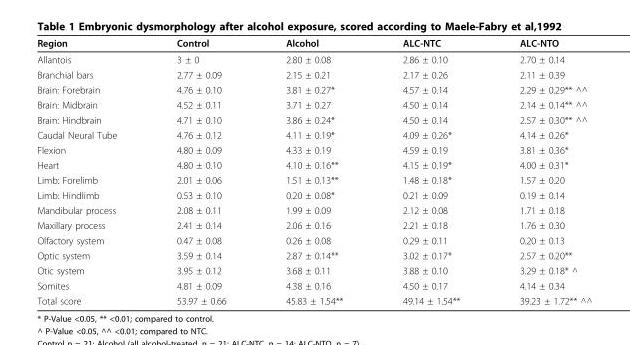table: (36, 36, 591, 305)
table column: (255, 36, 372, 305), (372, 36, 489, 305), (36, 36, 146, 305), (146, 36, 255, 305), (489, 36, 591, 305)
table column header: (36, 36, 591, 50)
table row: (36, 50, 591, 66), (36, 96, 591, 112), (36, 66, 591, 81), (36, 81, 591, 96), (36, 112, 591, 127), (36, 127, 591, 142), (36, 142, 591, 157), (36, 157, 591, 172), (36, 172, 591, 187), (36, 187, 591, 202), (36, 202, 591, 217), (36, 217, 591, 232), (36, 232, 591, 247), (36, 247, 591, 262), (36, 262, 591, 277), (36, 277, 591, 292), (36, 36, 591, 50), (36, 292, 591, 305)
